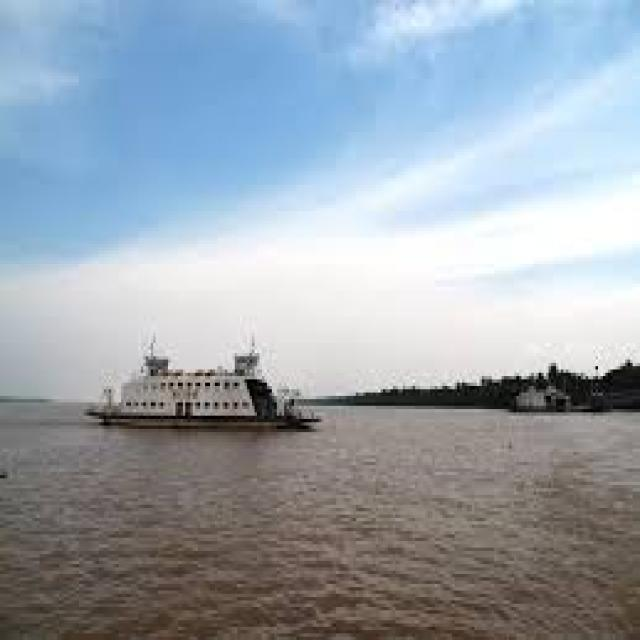passenger ship: (97, 336, 312, 435)
